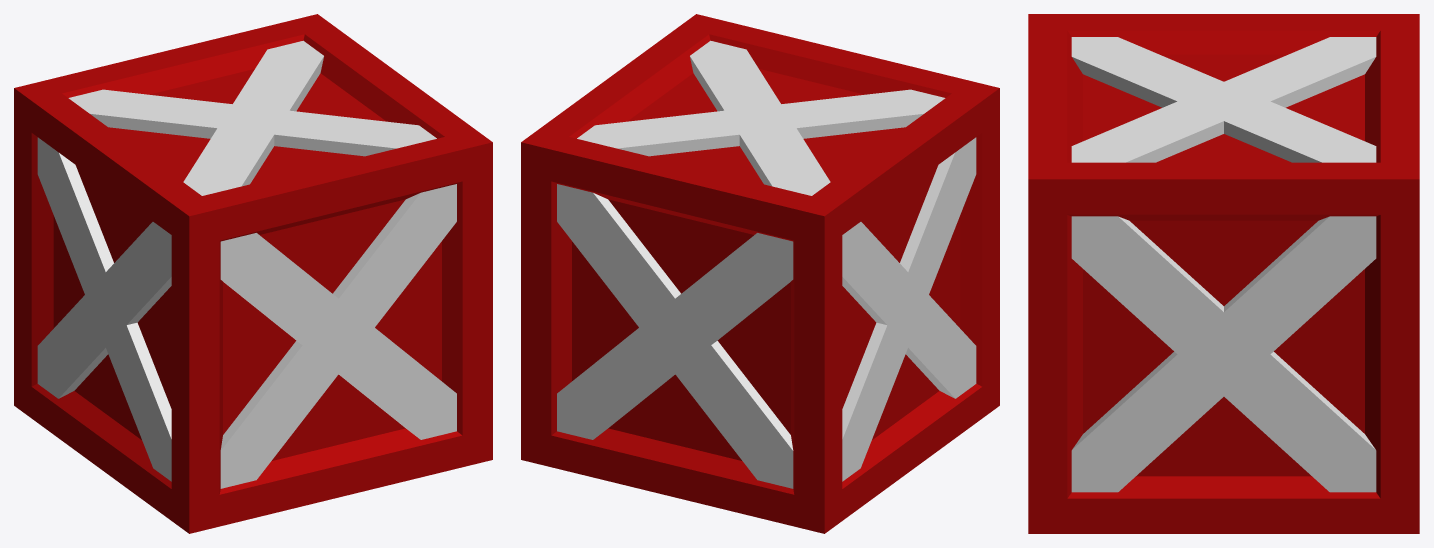
File: CuboRojo.fbx
3 views of the same model, side by side, from view 1: azimuth 30°, elevation 25°; view 2: azimuth 150°, elevation 25°; view 3: azimuth 270°, elevation 25° (orthographic). The views are drawn at different scales.
Parts seen in each view (by area): view 1: Cube.004; view 2: Cube.004; view 3: Cube.004.
Part boxes in pixels (x1,y1,x2,y2): Cube.004: [14, 14, 492, 533]; Cube.004: [521, 14, 999, 533]; Cube.004: [1028, 14, 1419, 533].
Bounding box in the file's own units: 200 × 200 × 200.
